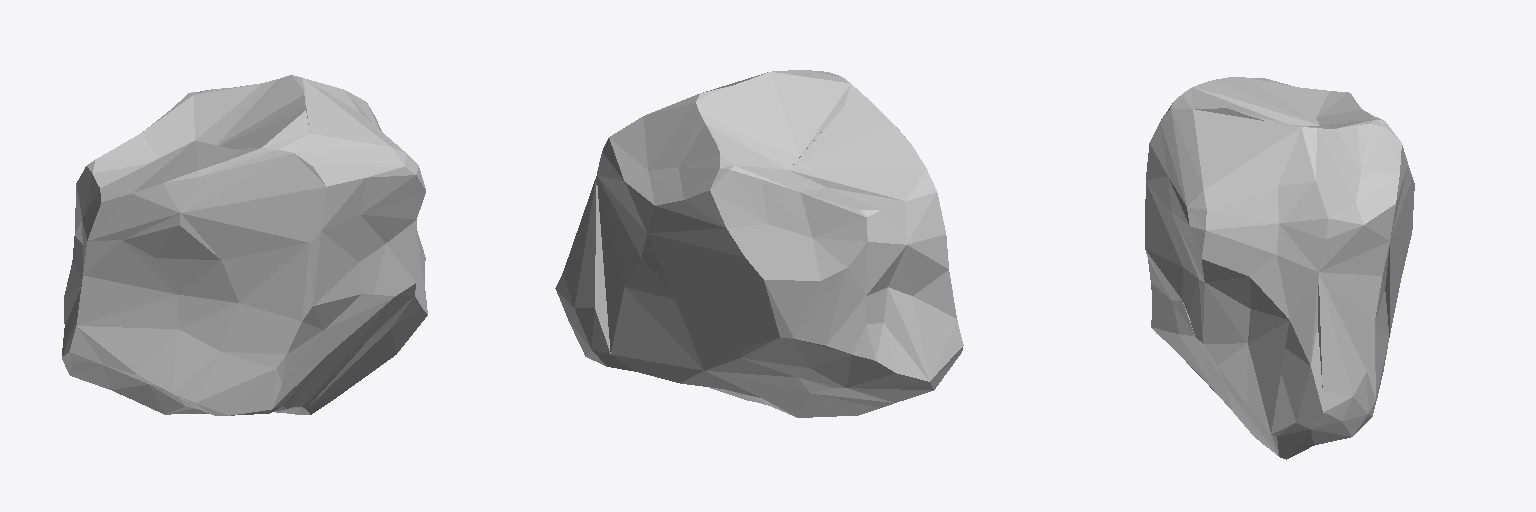
File: Boulder.obj
The picture shows the model from 3 angles: view 1: azimuth 30°, elevation 25°; view 2: azimuth 150°, elevation 25°; view 3: azimuth 270°, elevation 25°; orthographic projection.
Parts seen in each view (by area): view 1: Cube_Cube.001; view 2: Cube_Cube.001; view 3: Cube_Cube.001.
Part boxes in pixels (x1,y1,x2,y2): Cube_Cube.001: (62,75,427,415); Cube_Cube.001: (555,70,963,417); Cube_Cube.001: (1145,77,1414,459).
Bounding box in the file's own units: 10.06 × 8.02 × 6.15.